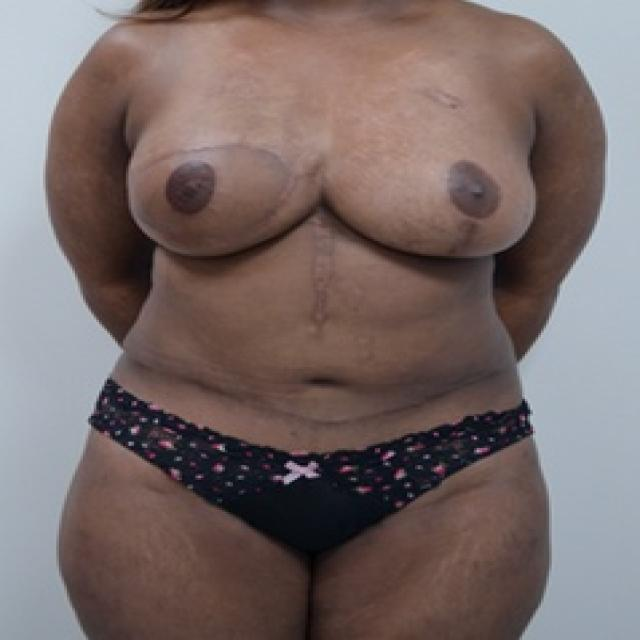Seno herido: (325, 89, 548, 276), (116, 88, 320, 276)
